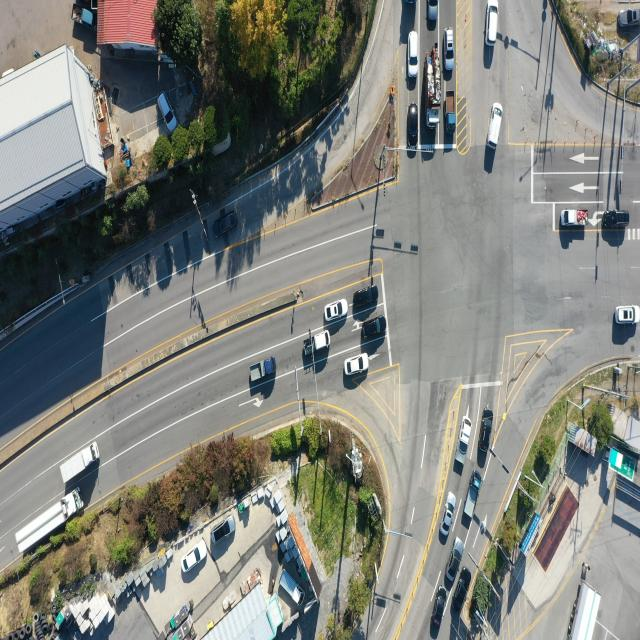car: (445, 539, 464, 584), (453, 568, 472, 611), (182, 542, 206, 574), (487, 104, 503, 150), (442, 493, 458, 537), (212, 518, 235, 547), (214, 211, 238, 237), (360, 318, 386, 342), (434, 585, 449, 624), (604, 209, 629, 232), (353, 285, 379, 307), (323, 300, 347, 323), (487, 0, 499, 46), (345, 353, 370, 375), (409, 30, 420, 78), (482, 410, 494, 452), (159, 92, 175, 123), (409, 103, 419, 148), (618, 8, 640, 26), (616, 307, 639, 324), (446, 30, 455, 70), (427, 0, 438, 23)
medium_truck: (14, 490, 82, 559), (568, 585, 601, 640), (60, 441, 100, 485), (425, 56, 441, 129)
small_truck: (454, 417, 472, 472), (466, 471, 484, 522), (248, 357, 276, 386), (278, 572, 304, 602), (302, 331, 330, 357), (446, 90, 458, 133), (561, 209, 587, 228), (70, 3, 94, 22)
